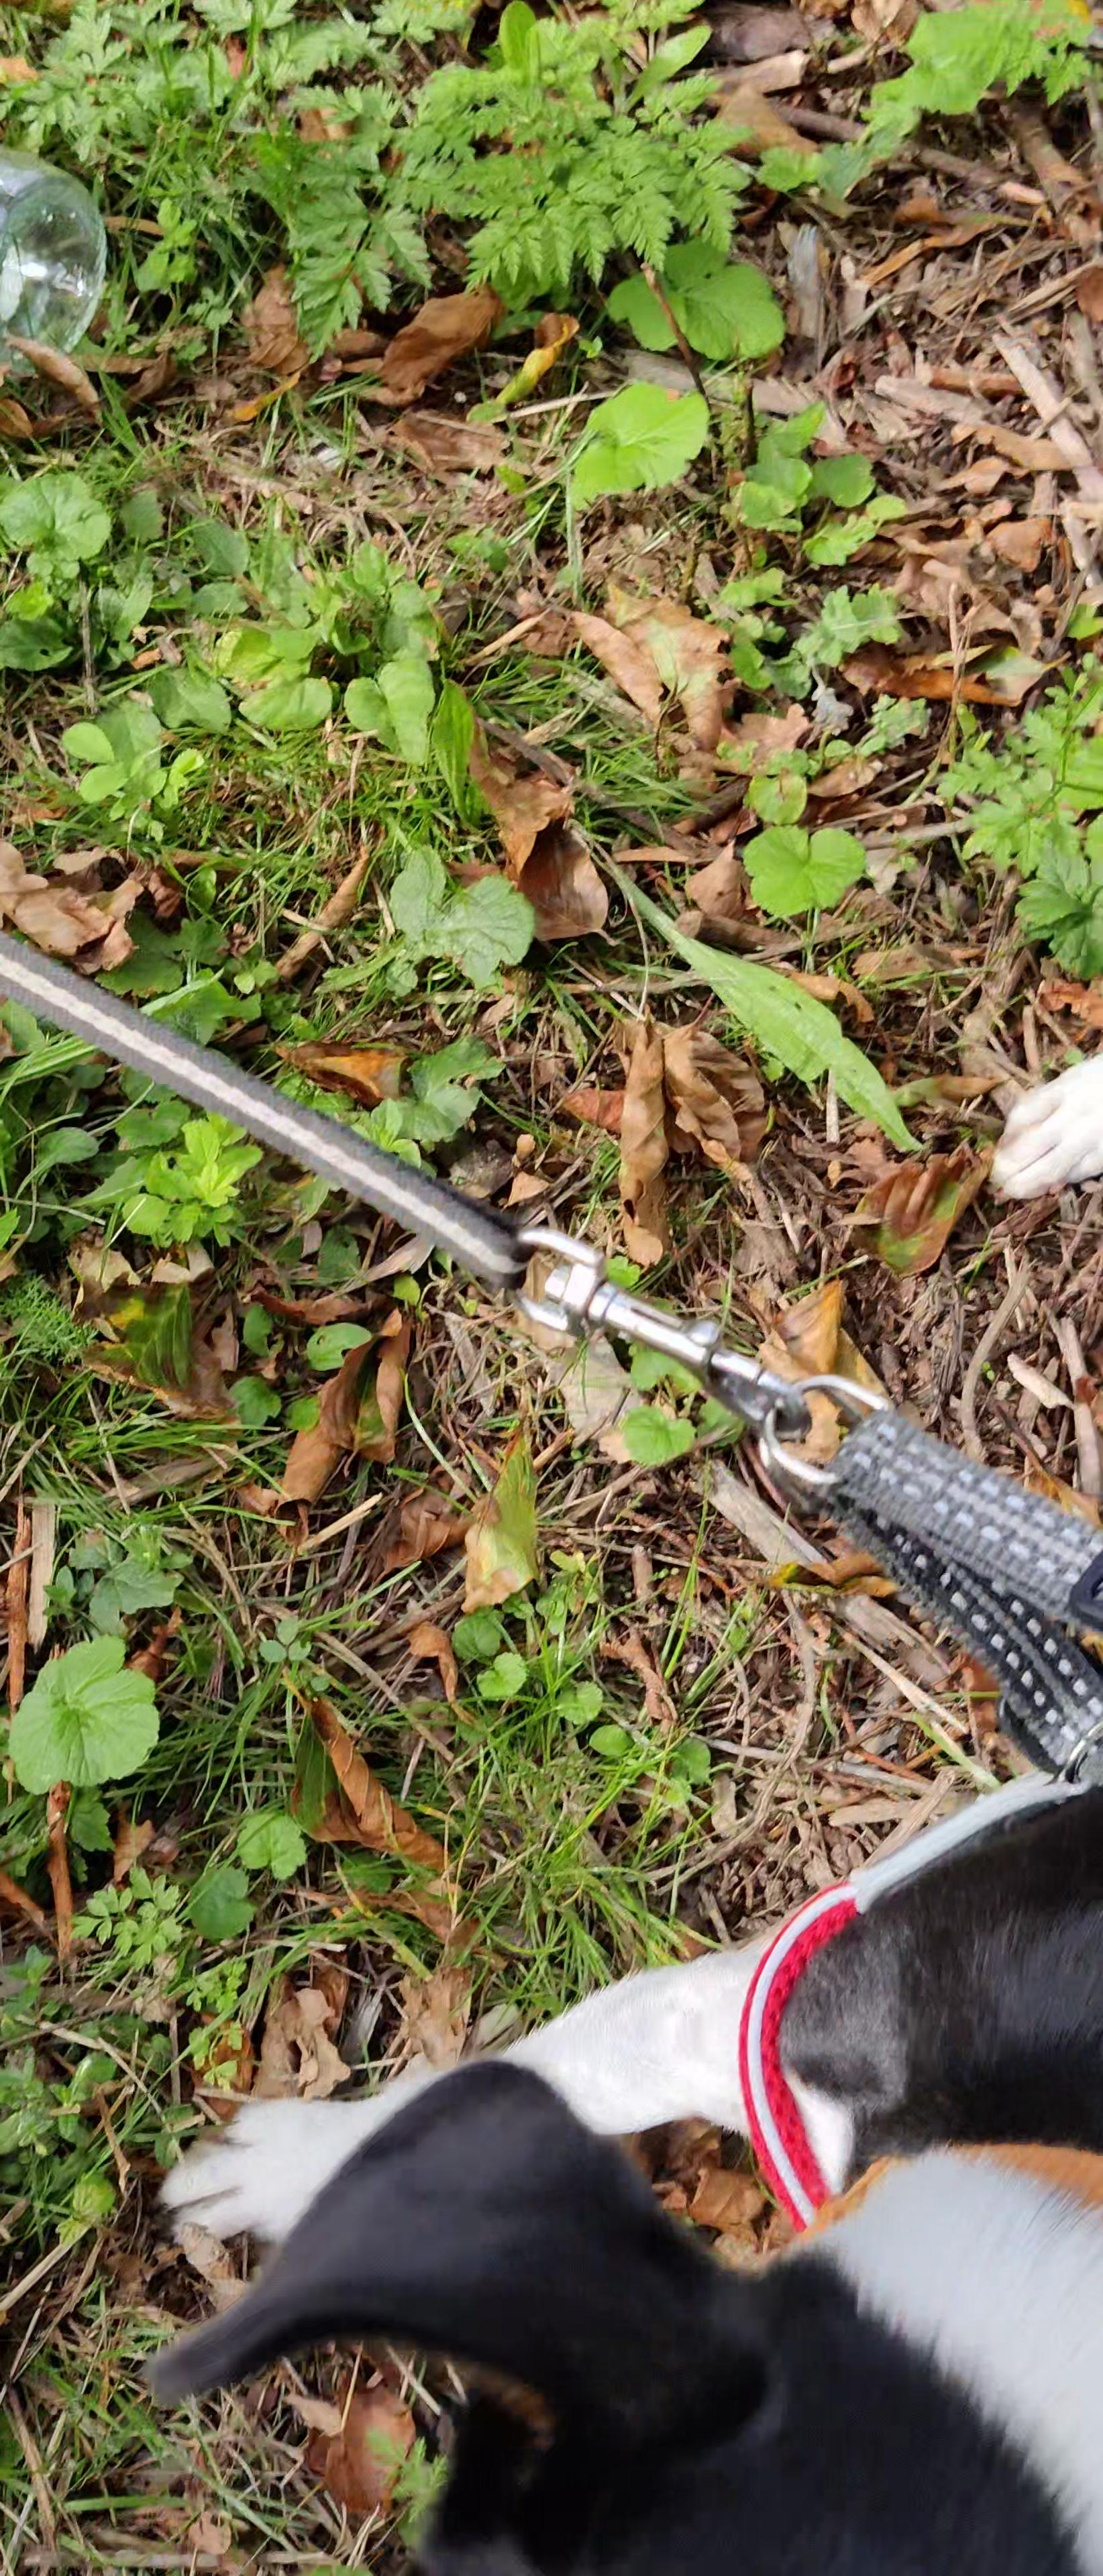Dog: (105, 959, 1103, 2576)
